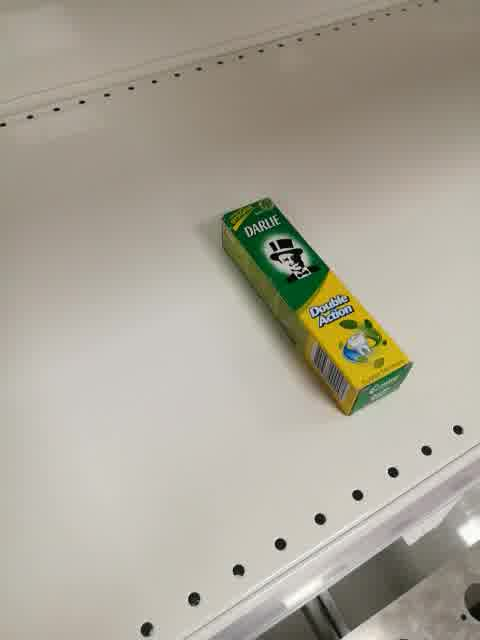toothpaste: (222, 196, 414, 419)
